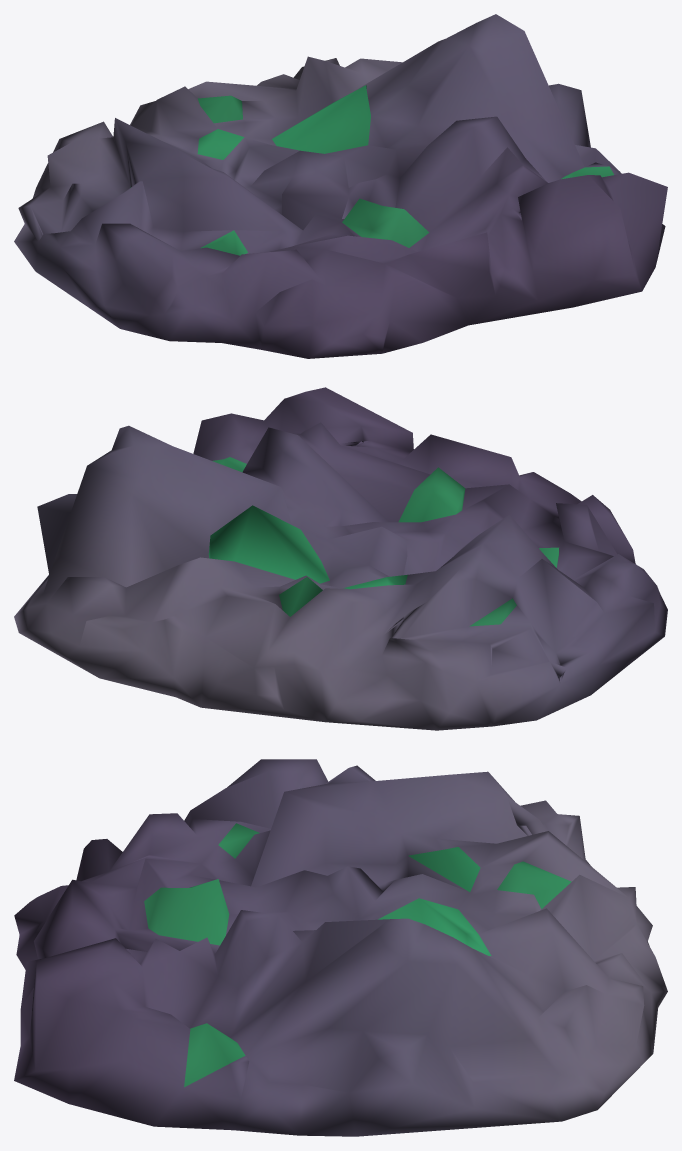
Rendered from ore.mineral.001.fbx.
The picture shows the model from 3 angles, top to bottom: view 1: azimuth 30°, elevation 25°; view 2: azimuth 150°, elevation 25°; view 3: azimuth 270°, elevation 25°; orthographic projection. The views are drawn at different scales.
Parts seen in each view (by area): view 1: ore.mineral.001; view 2: ore.mineral.001; view 3: ore.mineral.001.
Boxes of the visible parts, bbox=[...] form: ore.mineral.001: bbox=[14, 14, 667, 358]; ore.mineral.001: bbox=[14, 387, 667, 730]; ore.mineral.001: bbox=[14, 759, 667, 1136].
Bounding box in the file's own units: 3093 × 827 × 2747.
